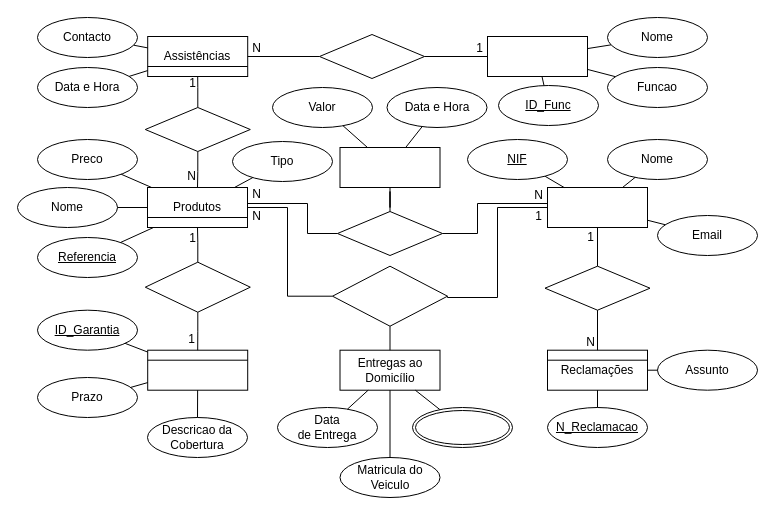
Some shapes in this 775 by 515 pixel diagram are drawn without their labels. Each missing label, with the centre of its shape:
Associar: (197,286)
Clientes: (597,207)
Comprar: (389,233)
Compras: (389,167)
Encarregar: (371,56)
Entregar: (197,129)
Entregar ao Domicílio: (390,295)
Fazer: (597,287)
Funcionários: (537,56)
Garantias: (197,369)
Morada: (462,427)
